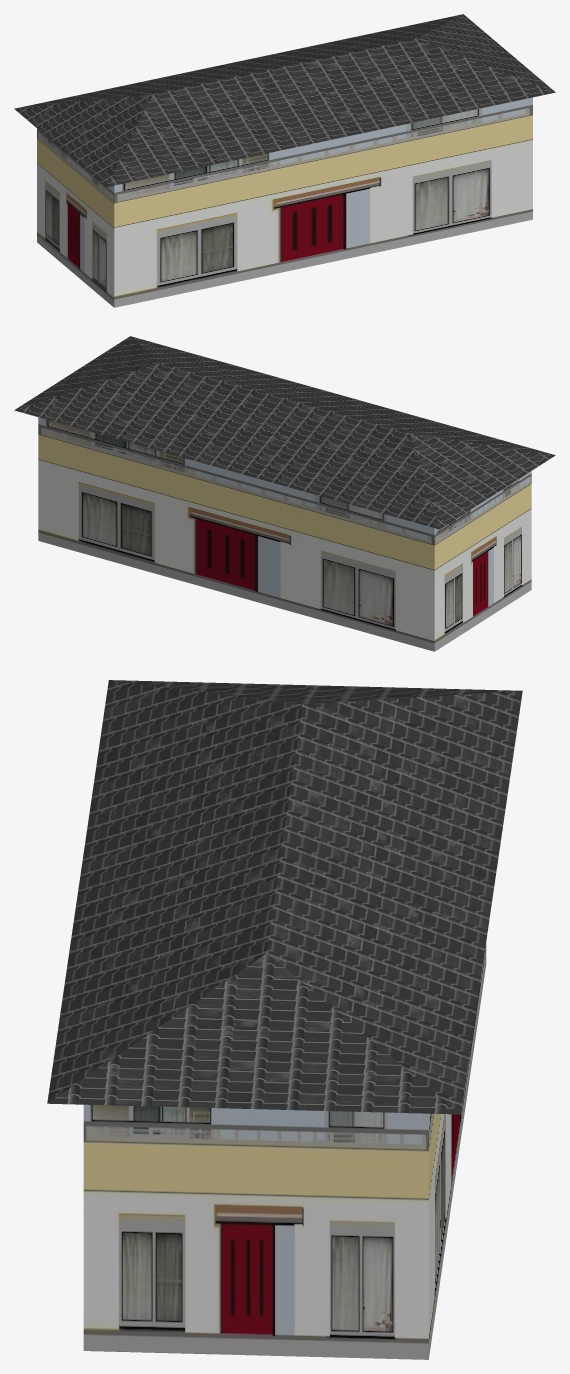
3 views of the same model, one above another, from view 1: azimuth 30°, elevation 25°; view 2: azimuth 150°, elevation 25°; view 3: azimuth 270°, elevation 25° (orthographic). The views are drawn at different scales.
Parts seen in each view (by area): view 1: CityEngineMaterial_15_m, CityEngineMaterial_16_m; view 2: CityEngineMaterial_15_m, CityEngineMaterial_16_m; view 3: CityEngineMaterial_16_m, CityEngineMaterial_15_m.
Boxes of the visible parts, x1,y1,x2,y2 form: CityEngineMaterial_15_m: [37, 97, 532, 307]; CityEngineMaterial_16_m: [14, 14, 555, 186]; CityEngineMaterial_15_m: [38, 417, 531, 651]; CityEngineMaterial_16_m: [14, 336, 555, 529]; CityEngineMaterial_16_m: [47, 680, 522, 1114]; CityEngineMaterial_15_m: [83, 942, 486, 1359].
Size of the model in its own units: 27.97 by 9.89 by 12.94.
